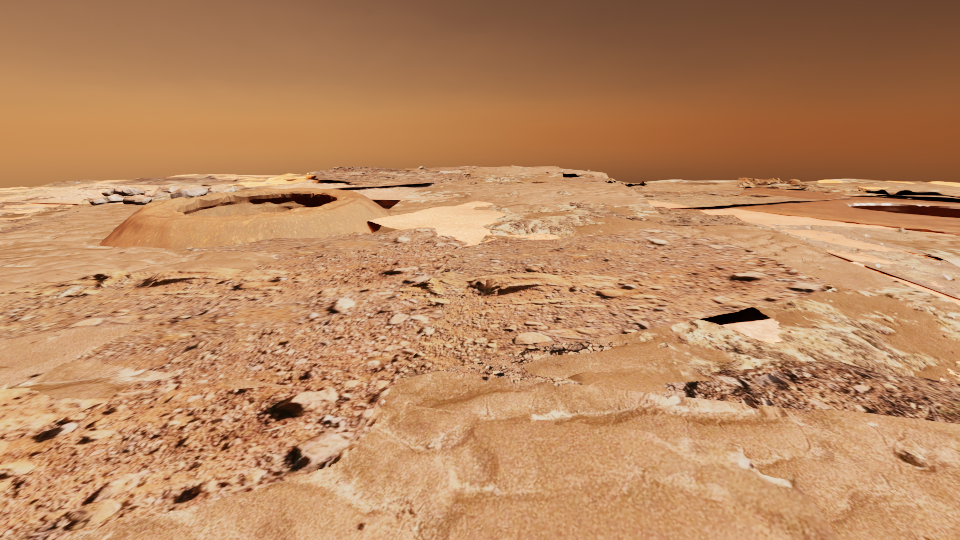bedrock: (662, 361, 959, 423), (770, 224, 959, 298), (0, 388, 114, 493), (397, 266, 663, 310), (0, 267, 302, 302), (440, 339, 615, 386), (0, 175, 239, 202), (268, 166, 484, 193), (568, 201, 771, 228), (641, 193, 808, 206), (0, 211, 78, 234), (736, 177, 845, 192), (849, 187, 959, 199), (560, 168, 617, 183), (22, 204, 69, 216), (491, 180, 574, 184), (619, 181, 646, 190), (0, 202, 31, 209), (511, 165, 524, 172), (658, 342, 668, 347)
hole: (847, 203, 959, 217)
rocks: (89, 184, 236, 204)
sand: (106, 166, 959, 539), (0, 203, 281, 291), (0, 321, 179, 399), (866, 232, 959, 266), (781, 229, 901, 251), (166, 174, 315, 191), (803, 179, 959, 195), (58, 523, 121, 539), (222, 379, 296, 388), (50, 285, 83, 297), (0, 187, 49, 191), (0, 295, 26, 301), (904, 195, 955, 198), (151, 194, 170, 202), (768, 183, 798, 187)
soil: (0, 186, 832, 539), (635, 188, 959, 235), (0, 190, 89, 203), (10, 179, 115, 189), (383, 177, 443, 189), (548, 176, 609, 183), (426, 166, 478, 170), (293, 178, 328, 183), (122, 185, 165, 189), (180, 175, 207, 177)
